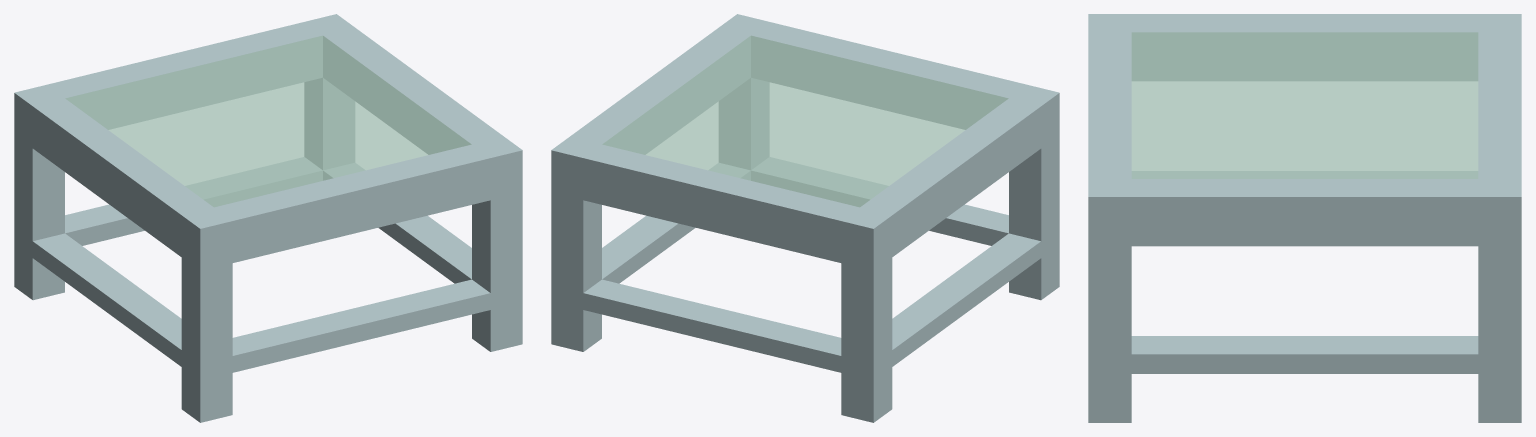
Rendered from tableCoffeeGlassSquare.fbx.
3 renders of one model, left to right at view 1: azimuth 30°, elevation 25°; view 2: azimuth 150°, elevation 25°; view 3: azimuth 270°, elevation 25°, orthographic. The views are drawn at different scales.
Visible parts, largest first — view 1: tableCoffeeGlassSquare; view 2: tableCoffeeGlassSquare; view 3: tableCoffeeGlassSquare.
Boxes of the visible parts, box(x1,y1,x2,y2) form: tableCoffeeGlassSquare: box(14, 14, 522, 422); tableCoffeeGlassSquare: box(551, 14, 1059, 422); tableCoffeeGlassSquare: box(1088, 14, 1521, 422).
Bounding box in the file's own units: 4 × 2.3 × 4.
